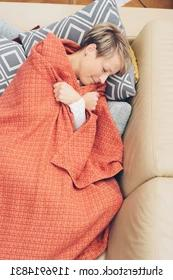blanket: (0, 32, 126, 260)
